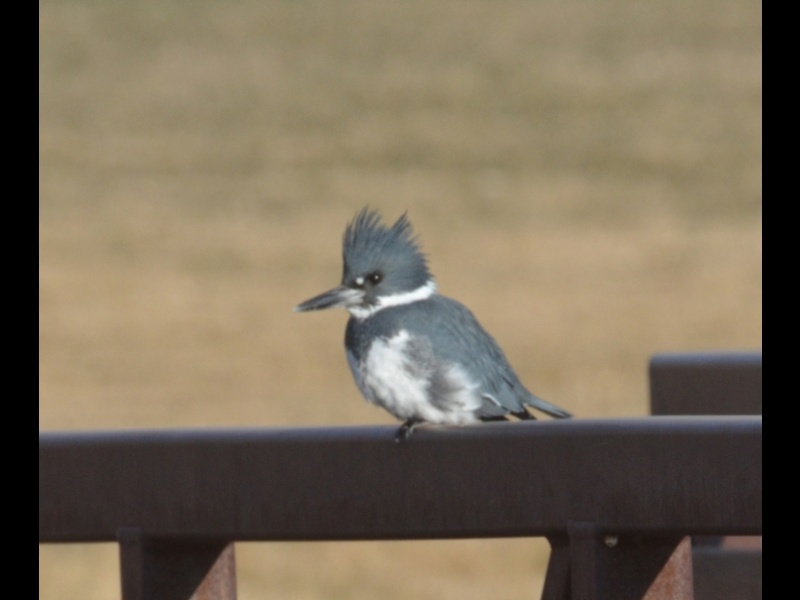kingfisher: (294, 204, 574, 437)
